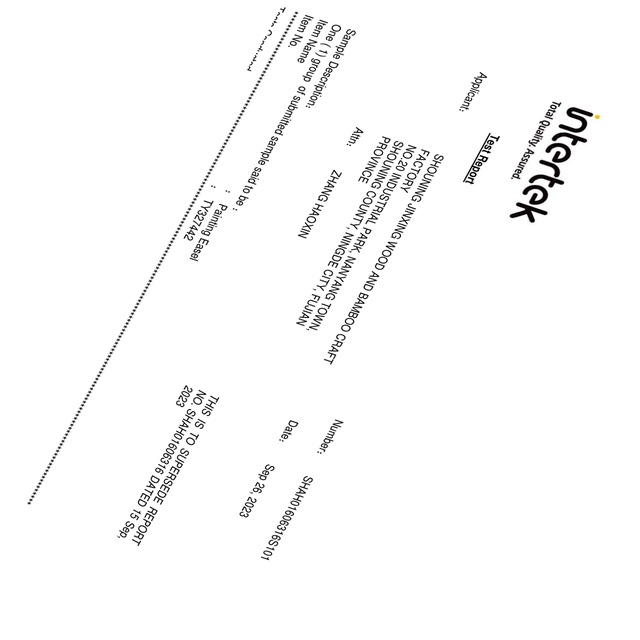intertek: (508, 103, 602, 228)
